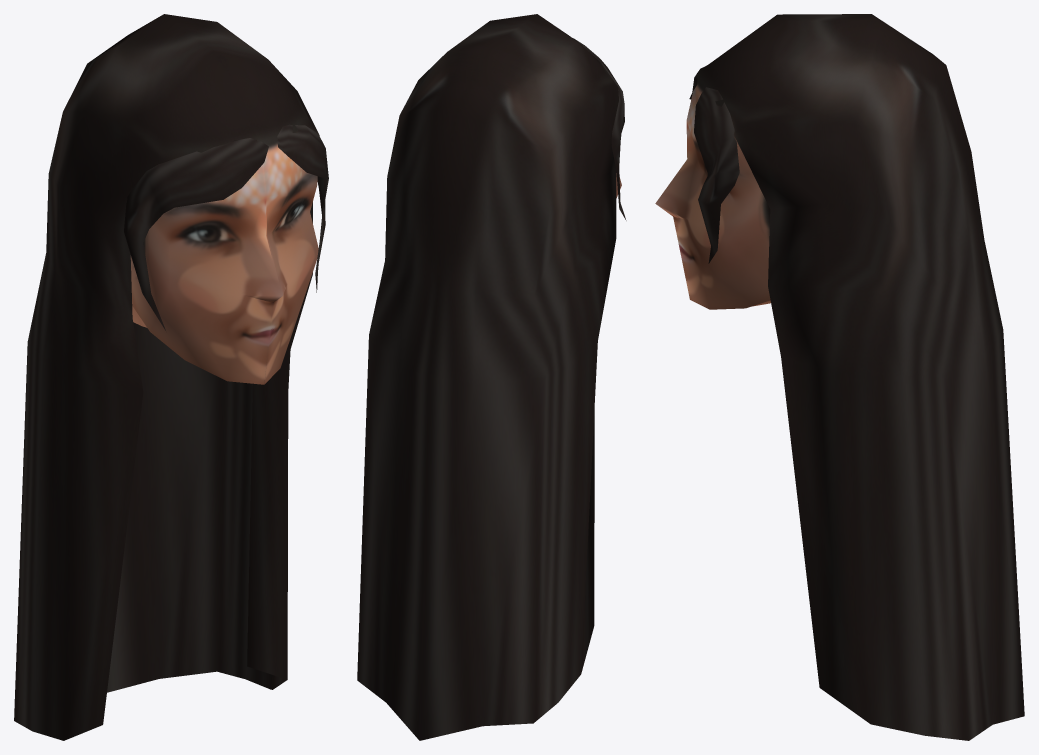
The model's file is maya_f_head_l2.dae.
3 renders of one model, left to right at view 1: azimuth 30°, elevation 25°; view 2: azimuth 150°, elevation 25°; view 3: azimuth 270°, elevation 25°, orthographic. The views are drawn at different scales.
Visible parts, largest first — view 1: maya_f_head_l2; view 2: maya_f_head_l2; view 3: maya_f_head_l2.
Part boxes in pixels (<box>): maya_f_head_l2: <box>14,14,328,740</box>; maya_f_head_l2: <box>357,14,626,740</box>; maya_f_head_l2: <box>655,14,1024,740</box>.
Bounding box in the file's own units: 0.4715 × 0.7406 × 1.54.
